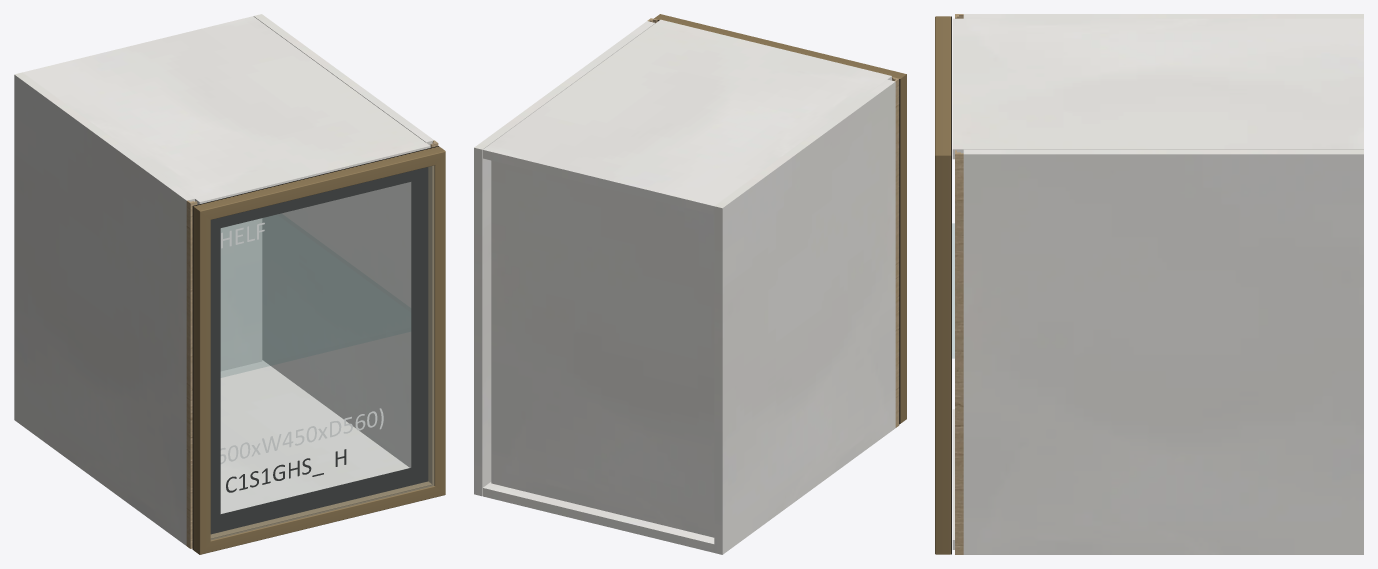
File: LOF-SH-NHX-GL-1SG-LHS-XXX-450-600-560-15.glb
The picture shows the model from 3 angles, left to right: view 1: azimuth 30°, elevation 25°; view 2: azimuth 150°, elevation 25°; view 3: azimuth 270°, elevation 25°; orthographic projection. The views are drawn at different scales.
Visible parts, largest first — view 1: Object_node_4, TP_node_0, TP, TP_node_1, Neon 22 Profile ALU PROF NEON 20 L21XH22.5MM 3MTR S2/405 SEC (×4), TP_node, Object_node_6, TP_node_2, Object_node_8, 2D text_node_0, 2D text_node; view 2: TP_node_2, TP_node_0, TP, TP_node_1, Neon 22 Profile ALU PROF NEON 20 L21XH22.5MM 3MTR S2/405 SEC (×2), TP_node, Object_node_8, Object_node_6; view 3: TP_node_1, TP, Neon 22 Profile ALU PROF NEON 20 L21XH22.5MM 3MTR S2/405 SEC (×2), Object_node_14, TP_node_0, Object_node_6.
Boxes of the visible parts, box(x1,y1,x2,y2) form: Object_node_4: box(211, 166, 434, 539); TP_node_0: box(14, 72, 194, 545); TP: box(23, 16, 430, 204); TP_node_1: box(253, 14, 433, 467); Neon 22 Profile ALU PROF NEON 20 L21XH22.5MM 3MTR S2/405 SEC (×4): box(193, 146, 445, 554); TP_node: box(220, 360, 409, 513); Object_node_6: box(192, 146, 438, 549); TP_node_2: box(220, 218, 262, 371); Object_node_8: box(186, 200, 197, 548); 2D text_node_0: box(220, 408, 383, 464); 2D text_node: box(226, 449, 346, 492); TP_node_2: box(491, 160, 714, 537); TP_node_0: box(714, 79, 895, 554); TP: box(483, 19, 891, 214); TP_node_1: box(474, 21, 655, 496); Neon 22 Profile ALU PROF NEON 20 L21XH22.5MM 3MTR S2/405 SEC (×2): box(654, 14, 906, 423); TP_node: box(483, 482, 714, 552); Object_node_8: box(892, 77, 899, 427); Object_node_6: box(657, 20, 900, 424); TP_node_1: box(963, 149, 1363, 554); TP: box(952, 18, 1363, 159); Neon 22 Profile ALU PROF NEON 20 L21XH22.5MM 3MTR S2/405 SEC (×2): box(935, 16, 951, 554); Object_node_14: box(955, 150, 963, 554); TP_node_0: box(963, 14, 1363, 18); Object_node_6: box(951, 16, 951, 554).
Size of what is drawn, in the model's own units: 0.45 by 0.6 by 0.582.
Materials: 8 (2 with a texture image).
